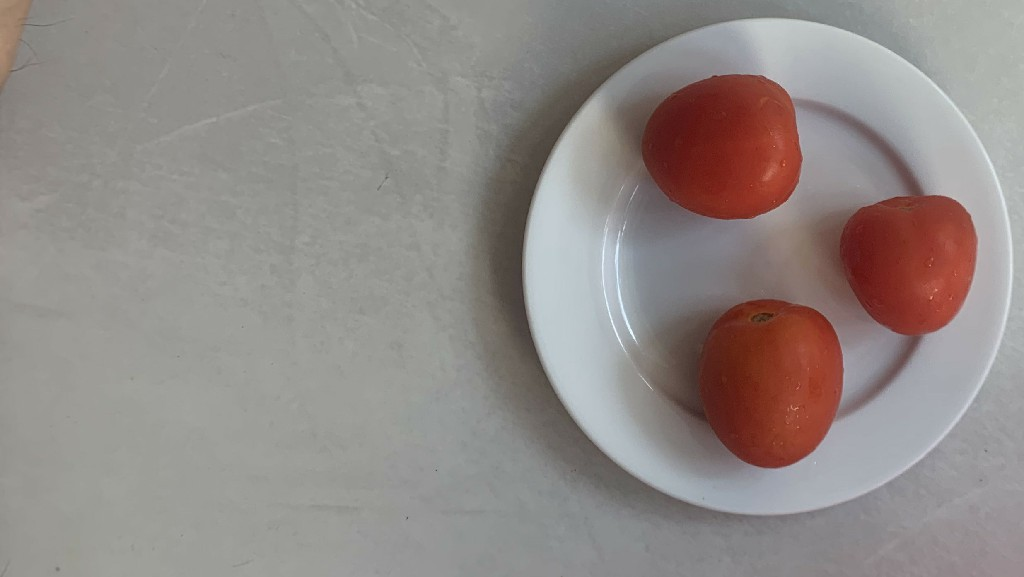OK: (690, 293, 844, 471), (634, 68, 807, 225), (837, 190, 980, 340)
